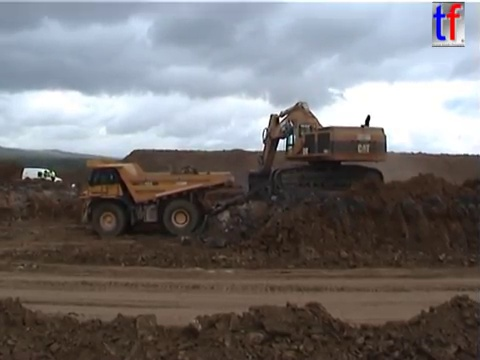excavator: (243, 99, 390, 196)
truck: (69, 156, 234, 238)
worker: (48, 168, 57, 185), (42, 167, 49, 184)
